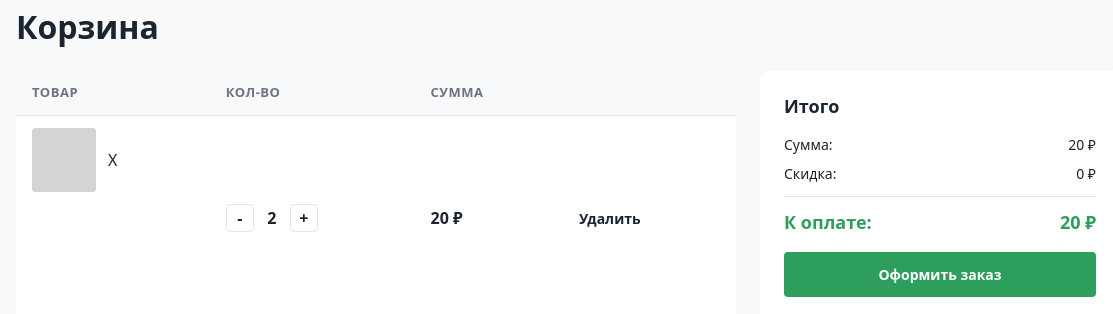
Test: CartPage › plus button increments qty and updates total
This screenshot has width=1113, height=314.
Click the button named "increment": (304,218) [290,204,318,232]
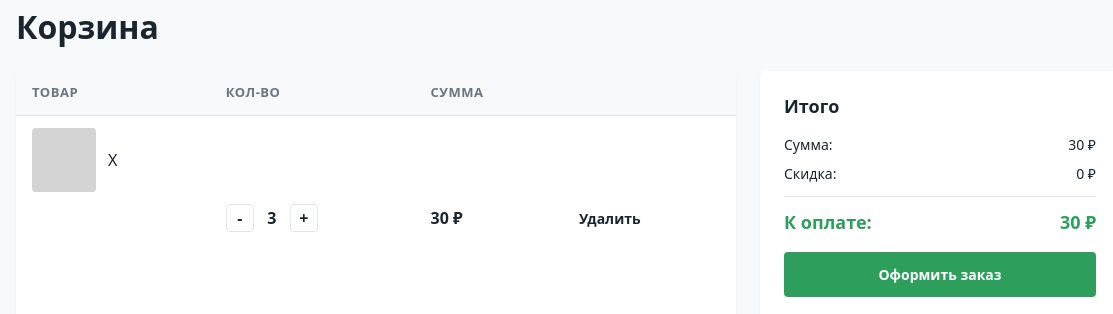
Result: the text with test id "cart-total" shows "30" at [1060,210,1096,234]
